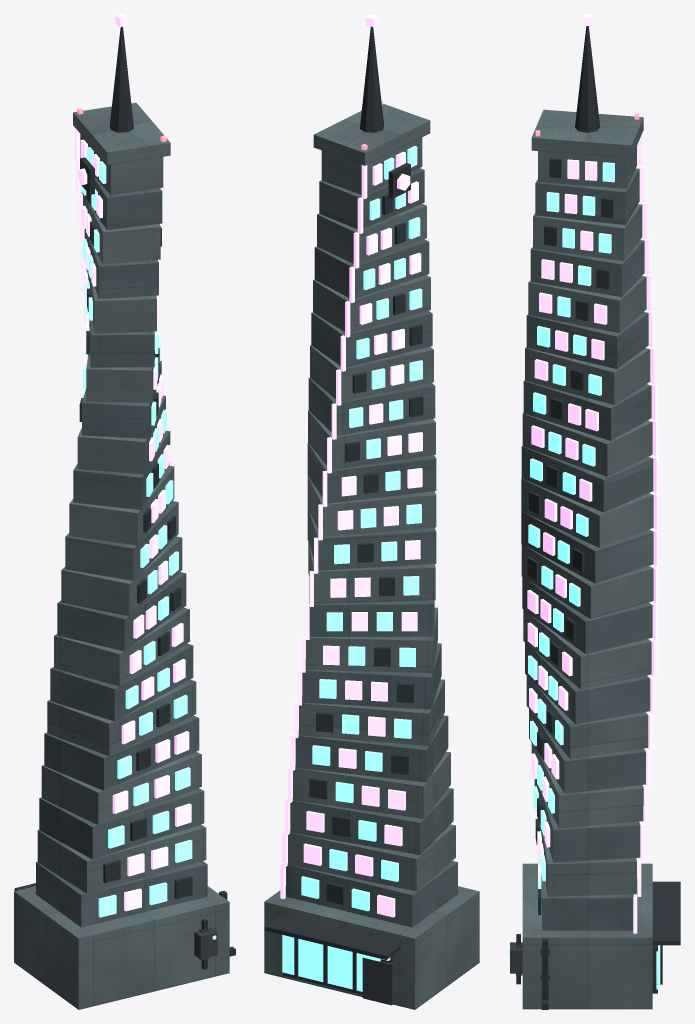
File: synthwave-twist.glb
3 renders of one model, left to right at view 1: azimuth 30°, elevation 25°; view 2: azimuth 150°, elevation 25°; view 3: azimuth 270°, elevation 25°, orthographic.
Visible parts, largest first — view 1: Twist_Body2, Twist_Body, Twist_PaneB, Twist_PaneADim, Twist_PaneOff, Twist_PaneA, Twist_PaneBDim, Twist_PaneBHot, Twist_PaneAHot, RK_Spire, Twist_Frame, Twist_HelixEdge (+1 smaller); view 2: Twist_Body2, Twist_Body, Twist_PaneB, Twist_PaneADim, Twist_PaneOff, Twist_HelixEdge, Twist_Frame, Twist_PaneBDim, LobbyPane, Twist_PaneA, Twist_PaneBHot, Twist_PaneAHot (+2 smaller); view 3: Twist_Body2, Twist_Body, Twist_HelixEdge, Twist_PaneOff, Twist_PaneADim, Twist_PaneB, Twist_Frame, Twist_PaneAHot, Twist_PaneA, Twist_PaneBDim, Twist_PaneBHot, RK_Spire (+1 smaller).
Part boxes in pixels (x1,y1,x2,y2): Twist_Body2: [14, 102, 229, 1009]; Twist_Body: [36, 177, 207, 927]; Twist_PaneB: [81, 161, 190, 904]; Twist_PaneADim: [80, 139, 191, 911]; Twist_PaneOff: [79, 191, 192, 898]; Twist_PaneA: [80, 195, 189, 869]; Twist_PaneBDim: [85, 189, 192, 862]; Twist_PaneBHot: [83, 147, 178, 917]; Twist_PaneAHot: [76, 213, 183, 876]; RK_Spire: [109, 26, 133, 132]; Twist_Frame: [14, 157, 235, 969]; Twist_HelixEdge: [75, 128, 86, 324]; Twist_Body2: [264, 103, 479, 1009]; Twist_Body: [286, 168, 457, 927]; Twist_PaneB: [301, 146, 421, 898]; Twist_PaneADim: [303, 151, 422, 876]; Twist_PaneOff: [309, 193, 423, 905]; Twist_HelixEdge: [280, 165, 367, 899]; Twist_Frame: [264, 163, 410, 994]; Twist_PaneBDim: [319, 192, 422, 960]; LobbyPane: [282, 935, 380, 991]; Twist_PaneA: [330, 181, 420, 917]; Twist_PaneBHot: [312, 157, 422, 871]; Twist_PaneAHot: [306, 228, 422, 832]; Twist_Body2: [521, 109, 653, 1009]; Twist_Body: [521, 168, 653, 930]; Twist_HelixEdge: [633, 134, 659, 933]; Twist_PaneOff: [527, 158, 643, 914]; Twist_PaneADim: [527, 193, 639, 878]; Twist_PaneB: [528, 195, 636, 897]; Twist_Frame: [516, 881, 680, 1009]; Twist_PaneAHot: [527, 159, 641, 856]; Twist_PaneA: [529, 161, 598, 868]; Twist_PaneBDim: [530, 162, 614, 881]; Twist_PaneBHot: [528, 192, 611, 864]; RK_Spire: [575, 26, 600, 132].
Size of the model in its own units: 0.685 by 3.74 by 0.611.
17 materials, 2 textured.
